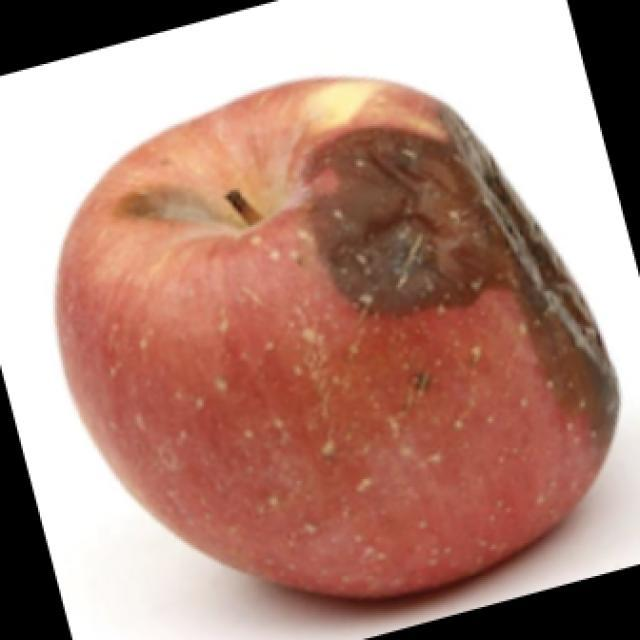Rotten: (65, 88, 617, 632)
